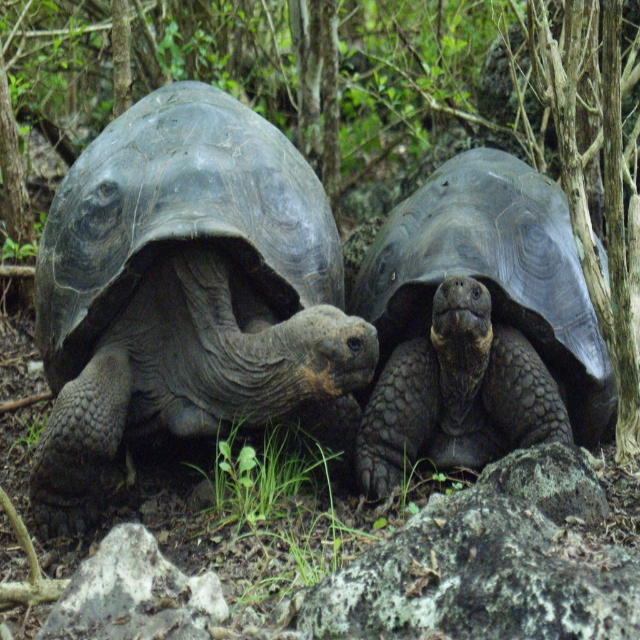Tortoise: (27, 80, 380, 541), (345, 147, 619, 505)
